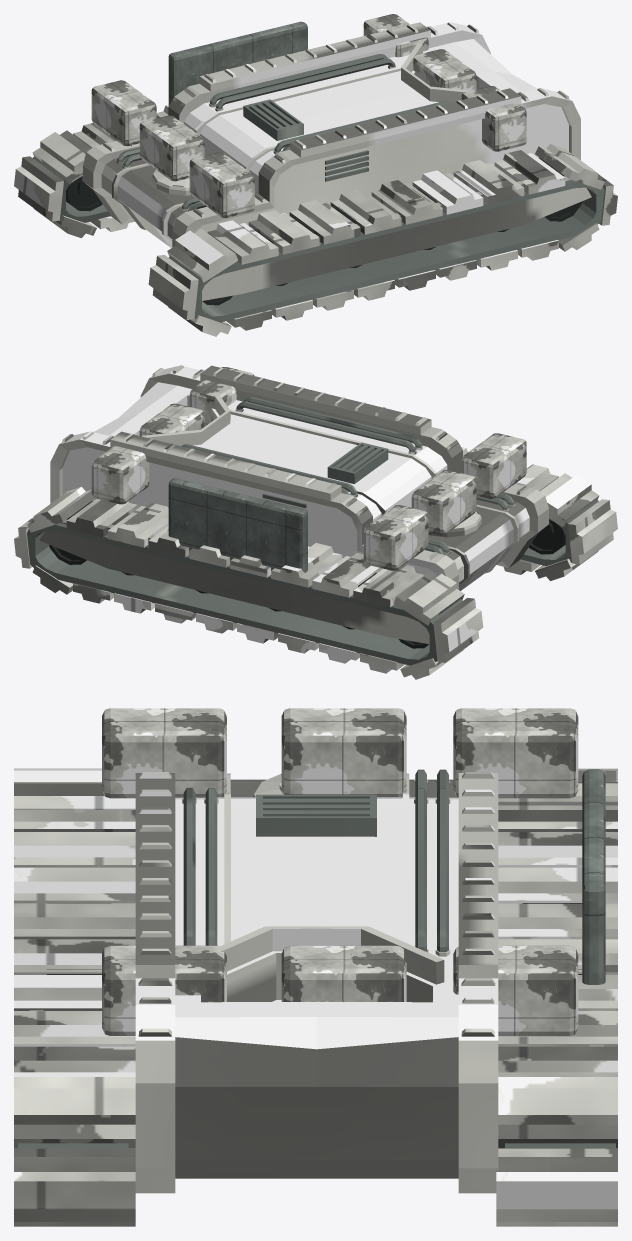
The model's file is light_tank_body.glb.
3 renders of one model, top to bottom at view 1: azimuth 30°, elevation 25°; view 2: azimuth 150°, elevation 25°; view 3: azimuth 270°, elevation 25°, orthographic. The views are drawn at different scales.
Visible parts, largest first — view 1: light_tank_body_unmerged_Tank_body.001_baked, light_tank_body_team_accent, light_tank_body_team_primary, light_tank_body_factory_metal; view 2: light_tank_body_unmerged_Tank_body.001_baked, light_tank_body_team_accent, light_tank_body_team_primary, light_tank_body_factory_metal; view 3: light_tank_body_unmerged_Tank_body.001_baked, light_tank_body_team_accent, light_tank_body_team_primary, light_tank_body_factory_metal.
Boxes of the visible parts, left/top/right/bottom form: light_tank_body_unmerged_Tank_body.001_baked: left=33, top=22, right=604, bottom=322; light_tank_body_team_accent: left=14, top=104, right=617, bottom=336; light_tank_body_team_primary: left=91, top=14, right=526, bottom=217; light_tank_body_factory_metal: left=168, top=21, right=307, bottom=105; light_tank_body_unmerged_Tank_body.001_baked: left=27, top=365, right=598, bottom=665; light_tank_body_team_accent: left=14, top=447, right=617, bottom=679; light_tank_body_team_primary: left=91, top=367, right=526, bottom=570; light_tank_body_factory_metal: left=168, top=478, right=307, bottom=572; light_tank_body_unmerged_Tank_body.001_baked: left=18, top=769, right=615, bottom=1193; light_tank_body_team_accent: left=14, top=768, right=617, bottom=1226; light_tank_body_team_primary: left=102, top=708, right=578, bottom=1035; light_tank_body_factory_metal: left=582, top=769, right=605, bottom=984.
Size of the model in its own units: 3.1 by 0.9285 by 2.08.
4 materials, 3 textured.
